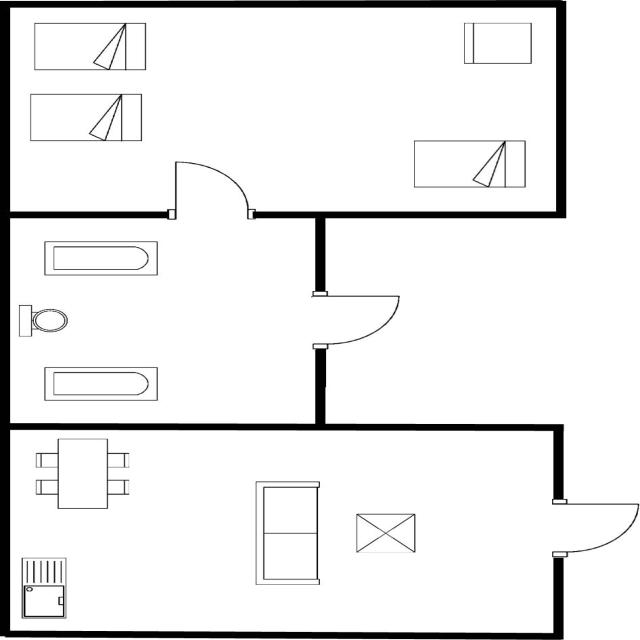bed: (404, 137, 532, 191), (27, 20, 150, 76), (25, 90, 146, 144)
coffee_table: (350, 510, 419, 555)
dining_table: (28, 435, 138, 512), (347, 513, 417, 558)
large_sink: (15, 302, 74, 338)
large_sofa: (247, 477, 326, 589)
sink: (15, 554, 70, 621)
small_sofa: (459, 18, 535, 68)
tub: (39, 237, 162, 279), (39, 363, 163, 404)
